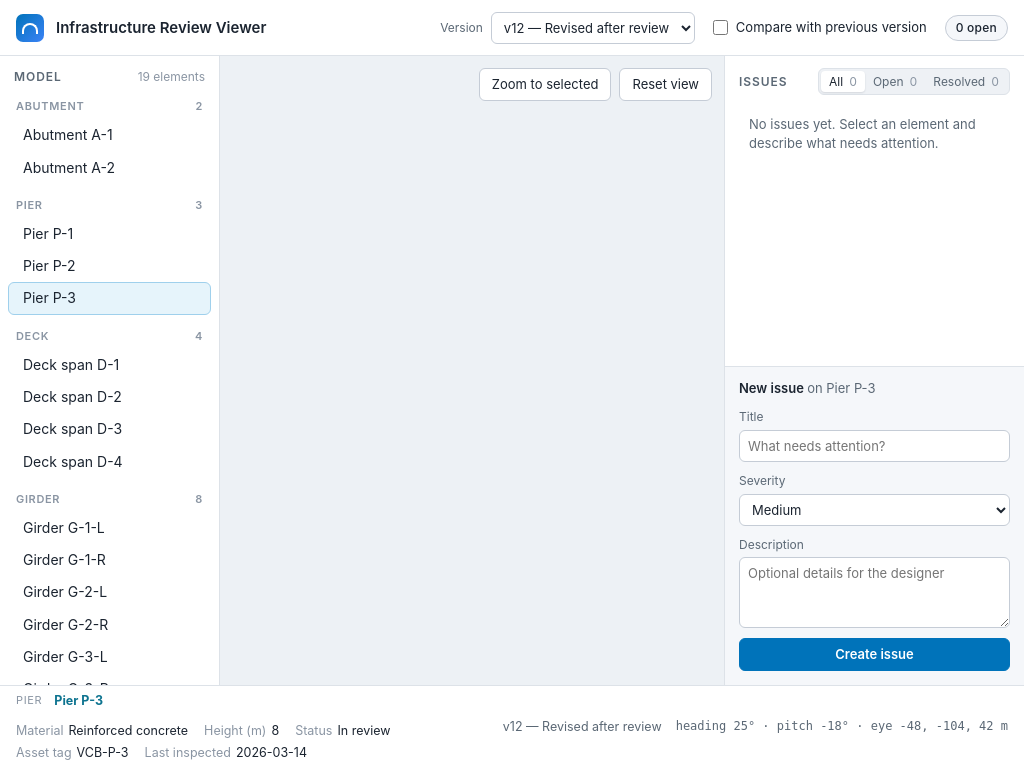
Test: App › runs the review workflow against a fake viewer
Check: the text with test id "selected-element" reads "Pier P-3", box 54,693 -> 103,708
# Creating an issue captures the current camera and marks the element.
Type "Seat level clash" into the field with test id "issue-title" at (874,446), box 739,430 -> 1010,462
Click the button with test id "create-issue" at (874,654), box 739,638 -> 1010,671
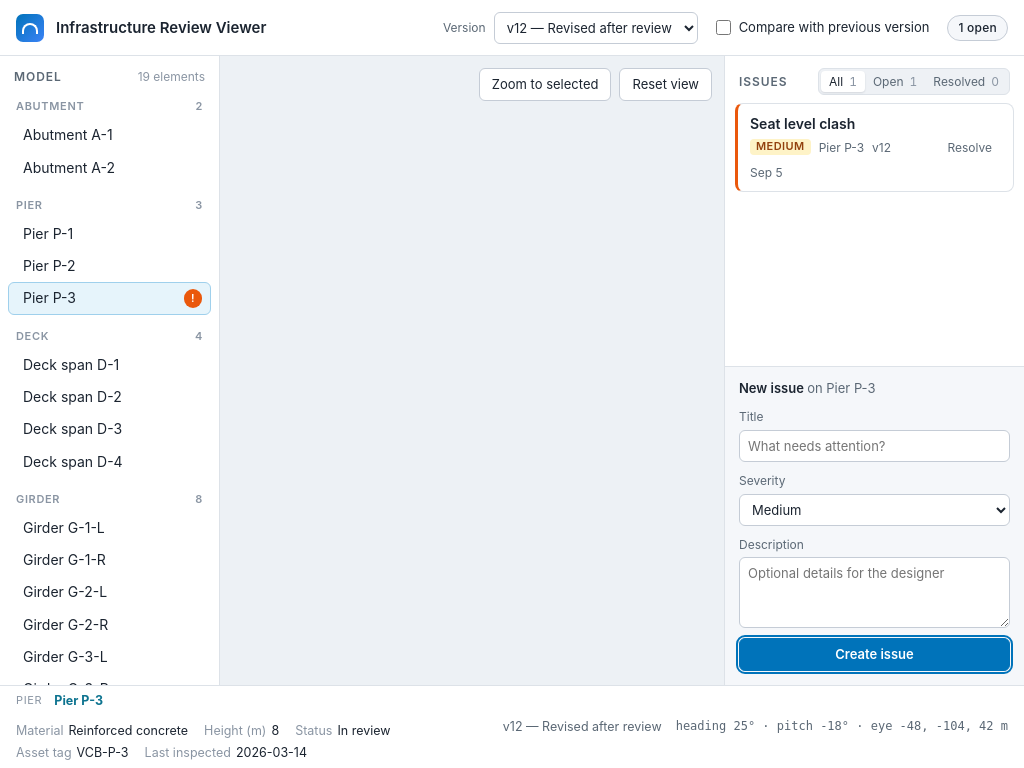
Check: the text with test id "open-count" reads "1 open", box 947,14 -> 1008,40
# Move the camera elsewhere, then restore the saved view from the issue.
Click the list item with test id "tree-item-A-1" at (68,135), box 23,126 -> 113,143
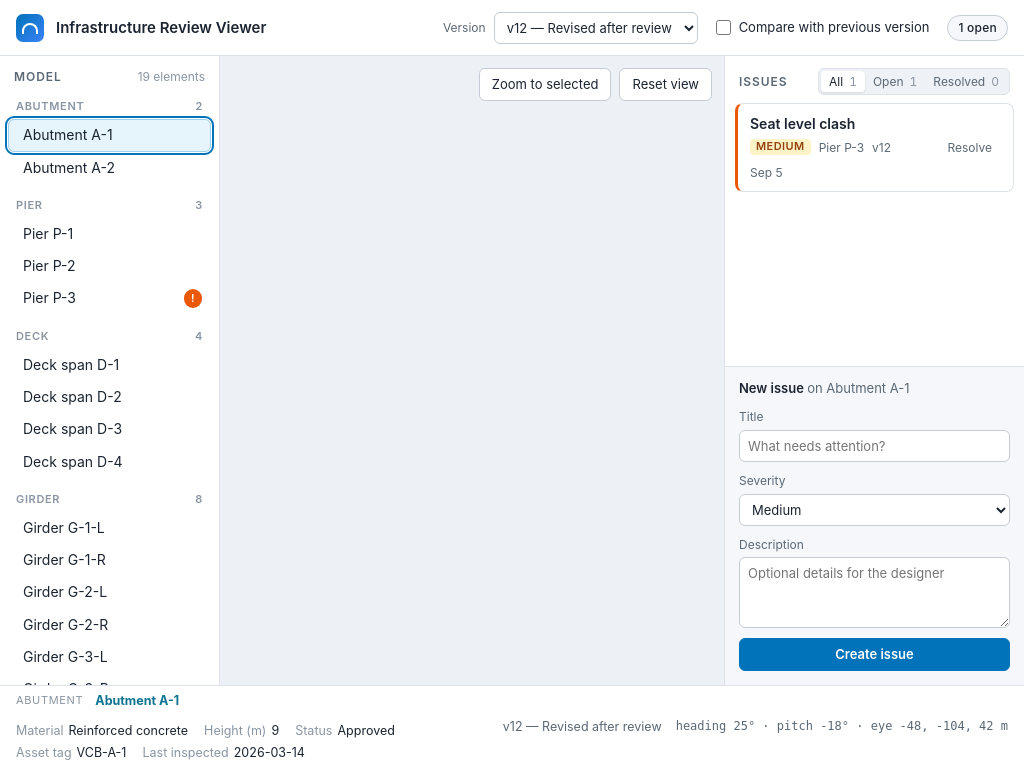
Click the button with test id "zoom-to-selected" at (545,84), box 479,68 -> 612,101
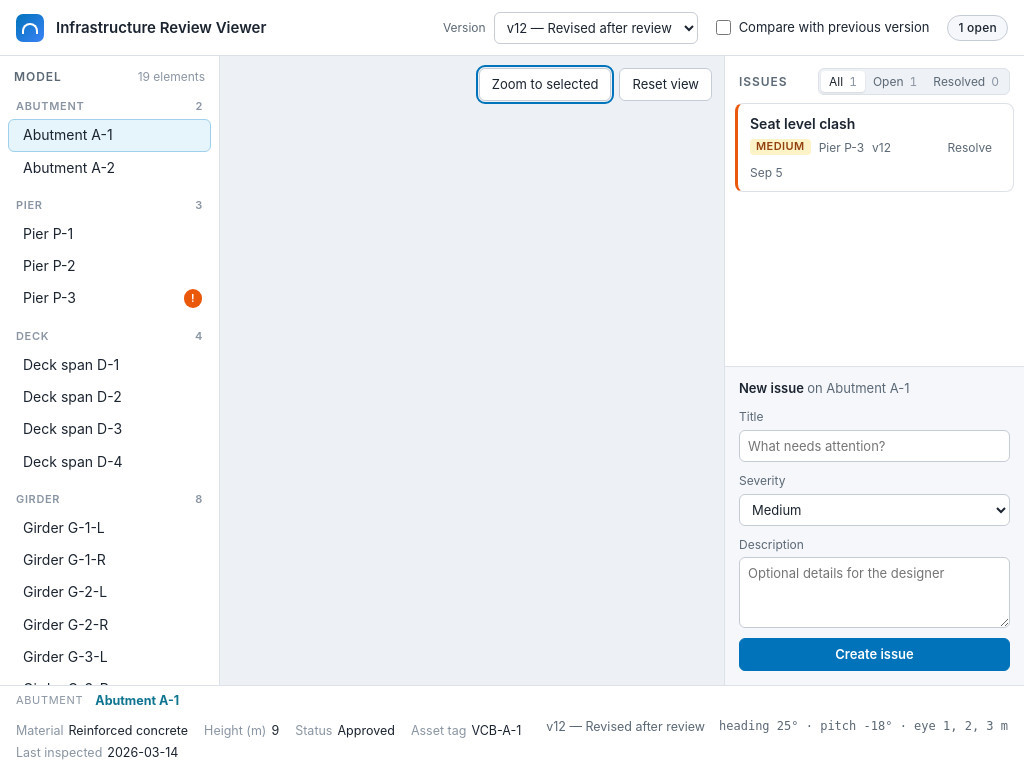
Click the button with test id "issue-restore" at (836,148), box 738,104 -> 934,192
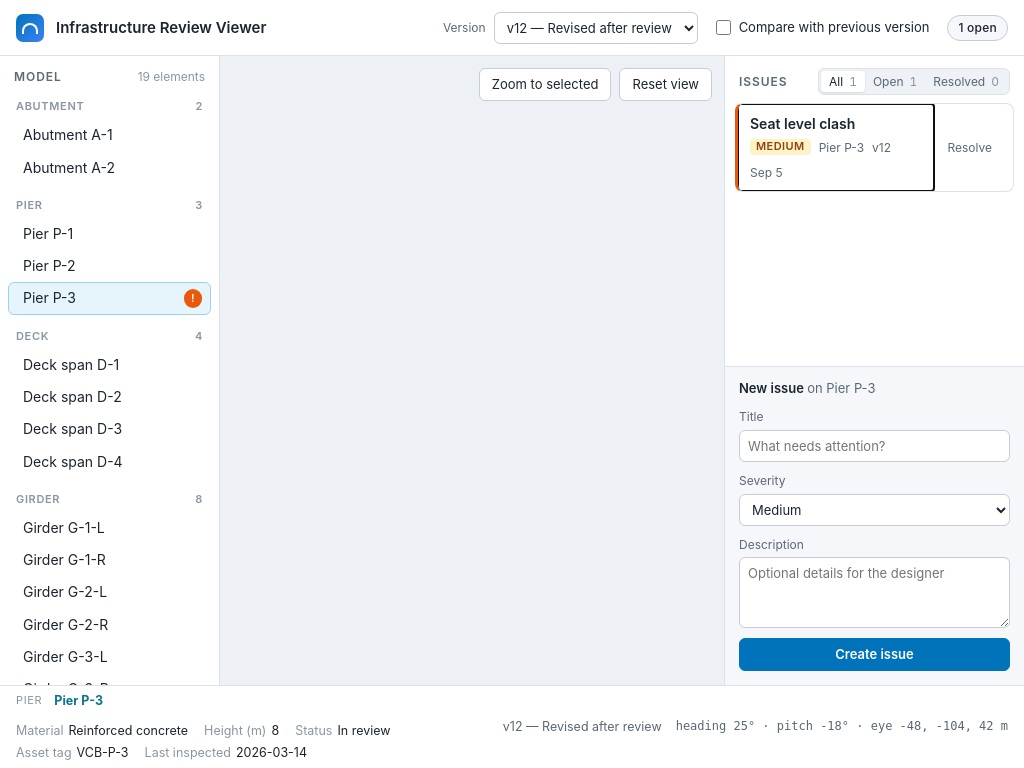
Check: the text with test id "selected-element" reads "Pier P-3", box 54,693 -> 103,708
# Compare versions: counts, ghost element, tree badge.
Click the checkbox with test id "compare-toggle" at (723,28), box 716,20 -> 731,35
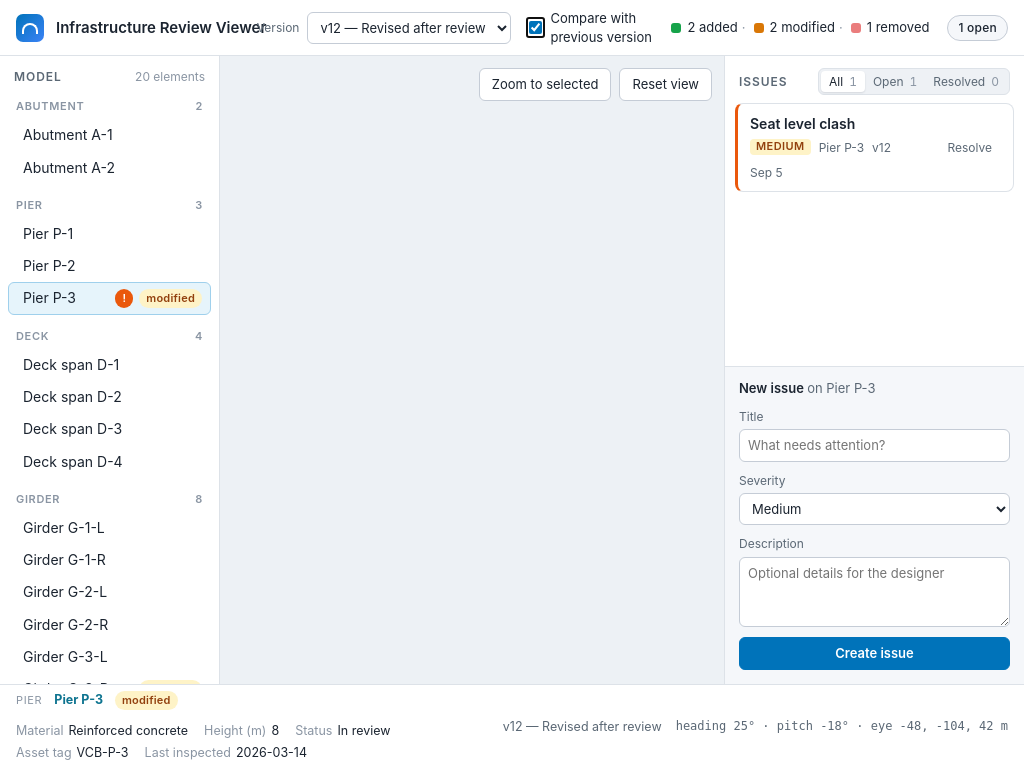
Check: the element with test id "changes-summary" reads "2 added · 2 modified · 1 removed", box 671,18 -> 929,37
# Escape clears the selection.
Press Escape
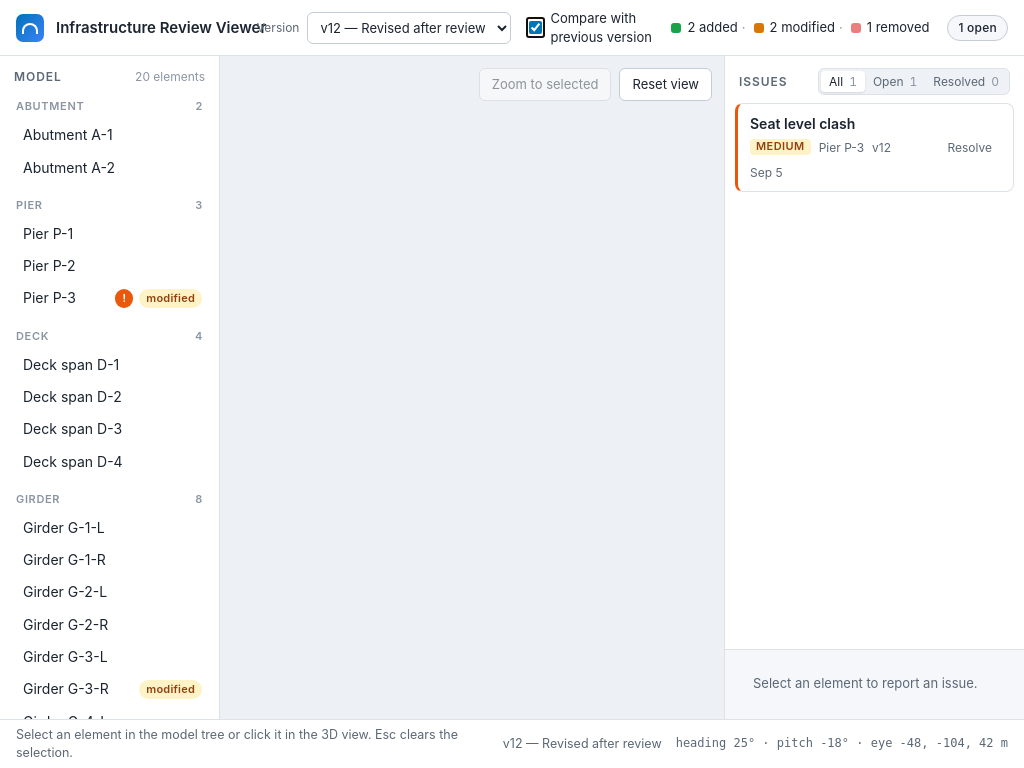
Check: the text with test id "selected-element" is gone
Check: the text "Select an element to report an issue." is shown, box 753,675 -> 978,691
